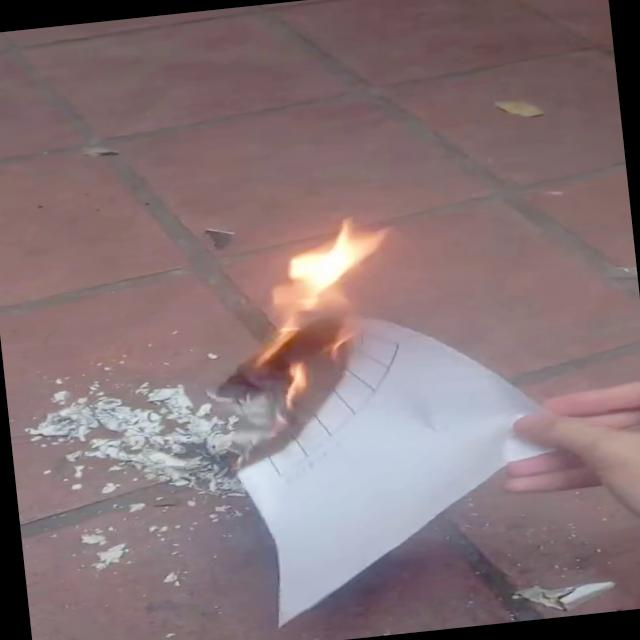Fire_Dangerous: (203, 209, 405, 411)
